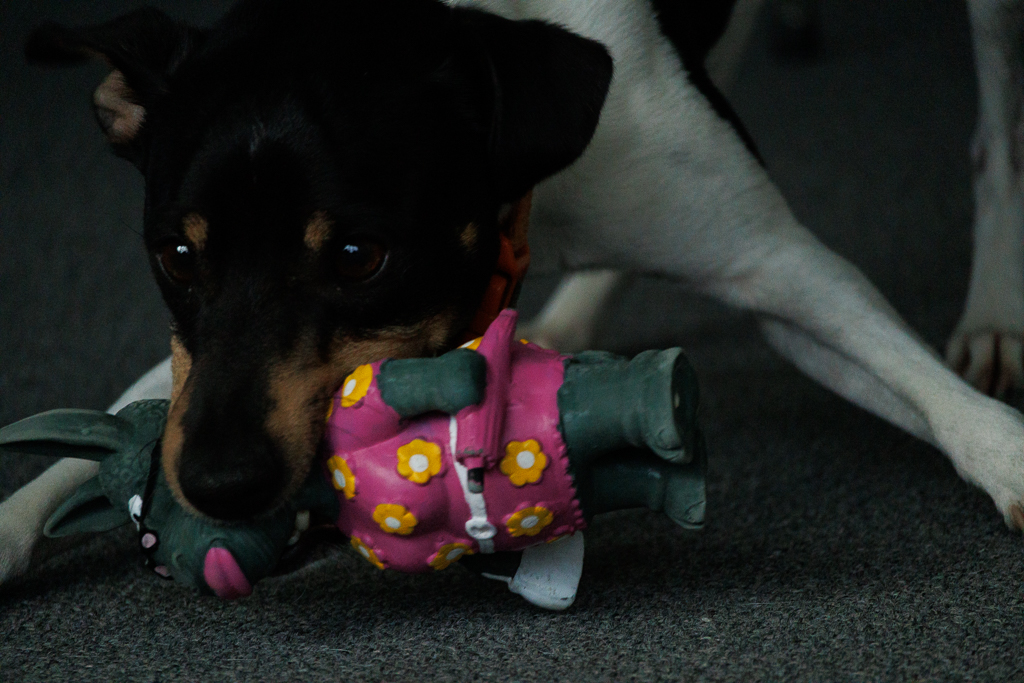Dog: (0, 0, 1024, 600)
Humanoid: (0, 296, 760, 626)
